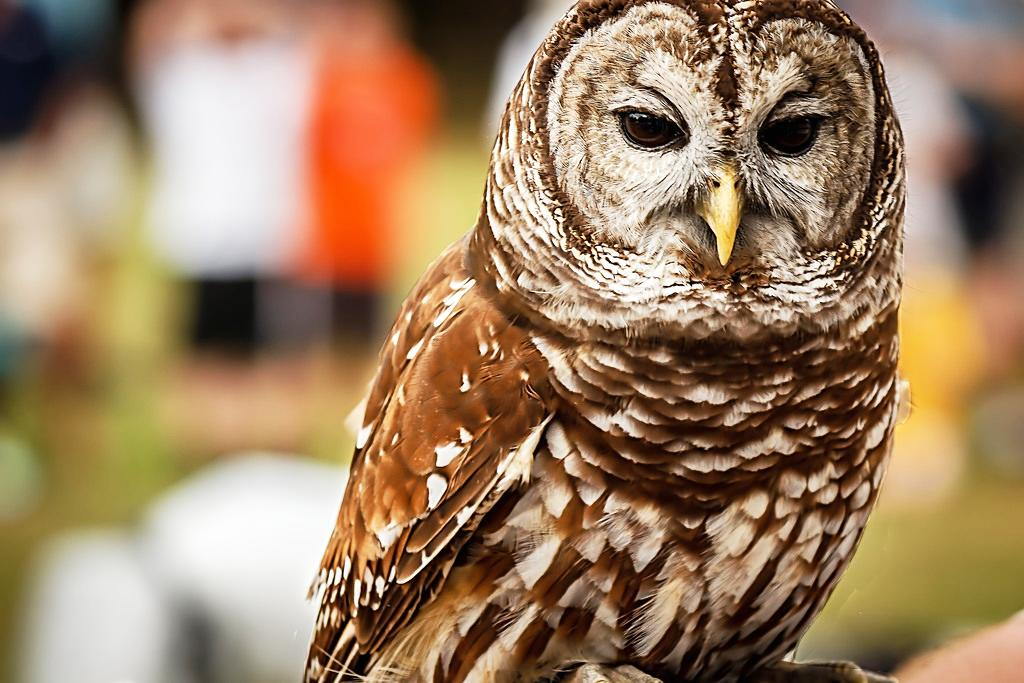Owl: (304, 0, 926, 683)
